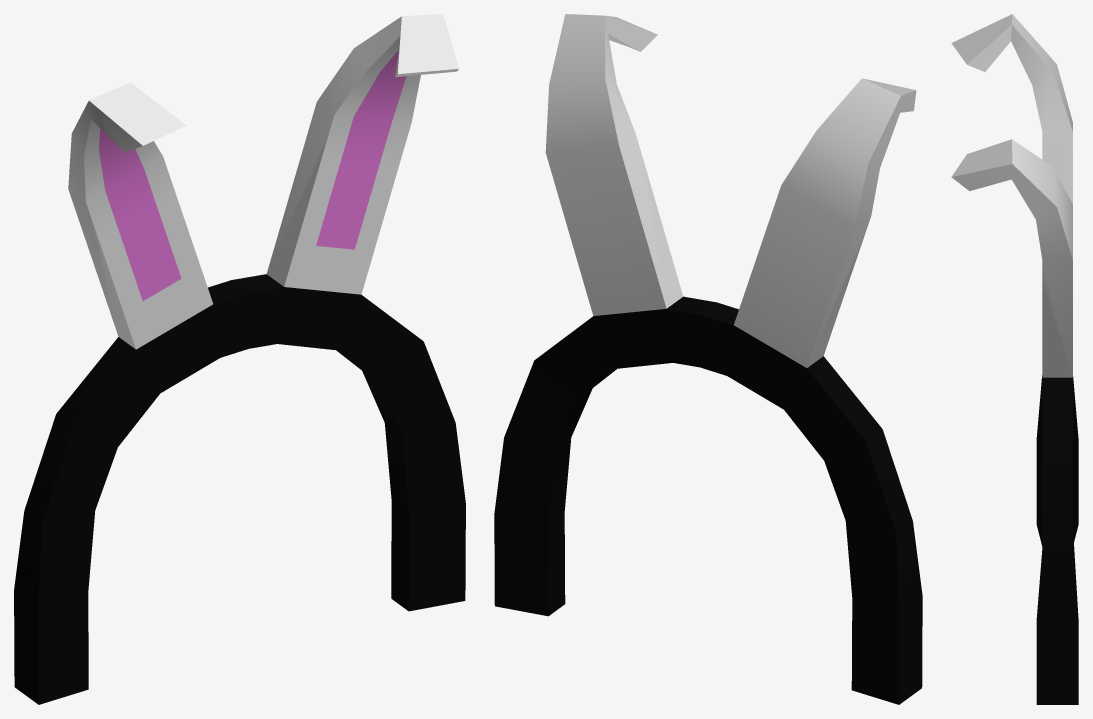
Rendered from Bunny Ears.fbx.
The picture shows the model from 3 angles, left to right: view 1: azimuth 30°, elevation 25°; view 2: azimuth 150°, elevation 25°; view 3: azimuth 270°, elevation 25°; orthographic projection. The views are drawn at different scales.
Parts seen in each view (by area): view 1: Bunny ears; view 2: Bunny ears; view 3: Bunny ears.
Boxes of the visible parts, x1,y1,x2,y2 form: Bunny ears: (14,14,465,704); Bunny ears: (494,14,922,704); Bunny ears: (951,14,1078,704).
Bounding box in the file's own units: 536 × 735 × 159.
